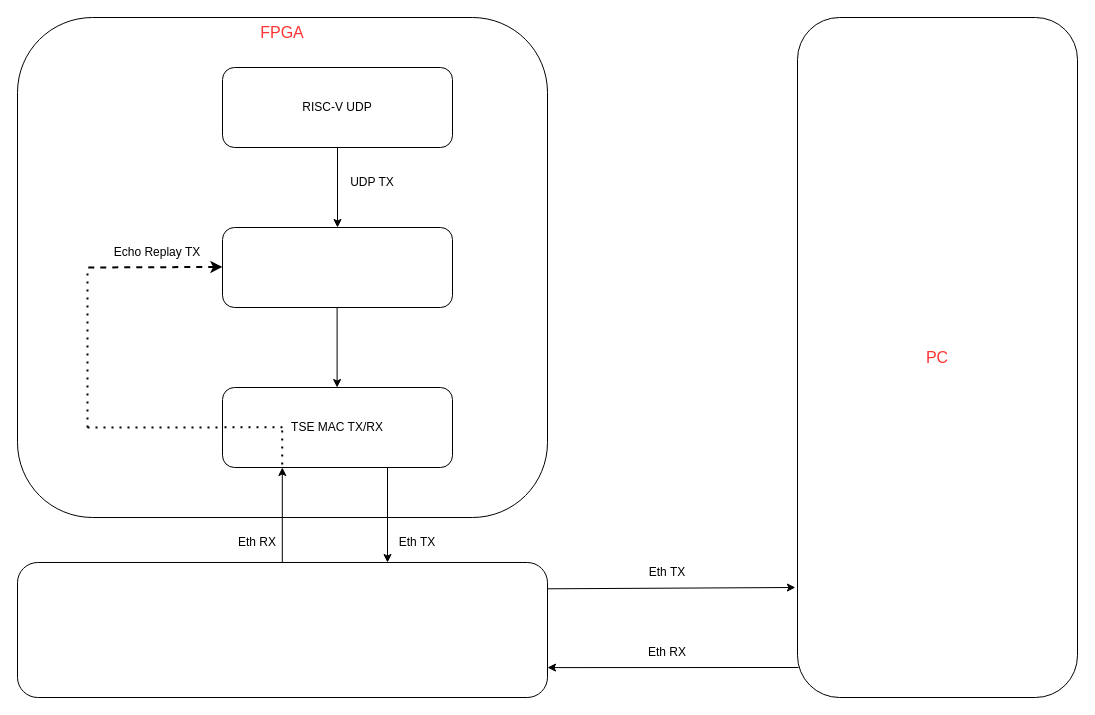
Image size: 1095x715. Some labels were removed from this diagram. Here are the shapes that lost their labels. From the top down, the box of each, then its label:
(222, 226, 452, 308): TX MUX
(16, 562, 548, 698): Eth PHY
